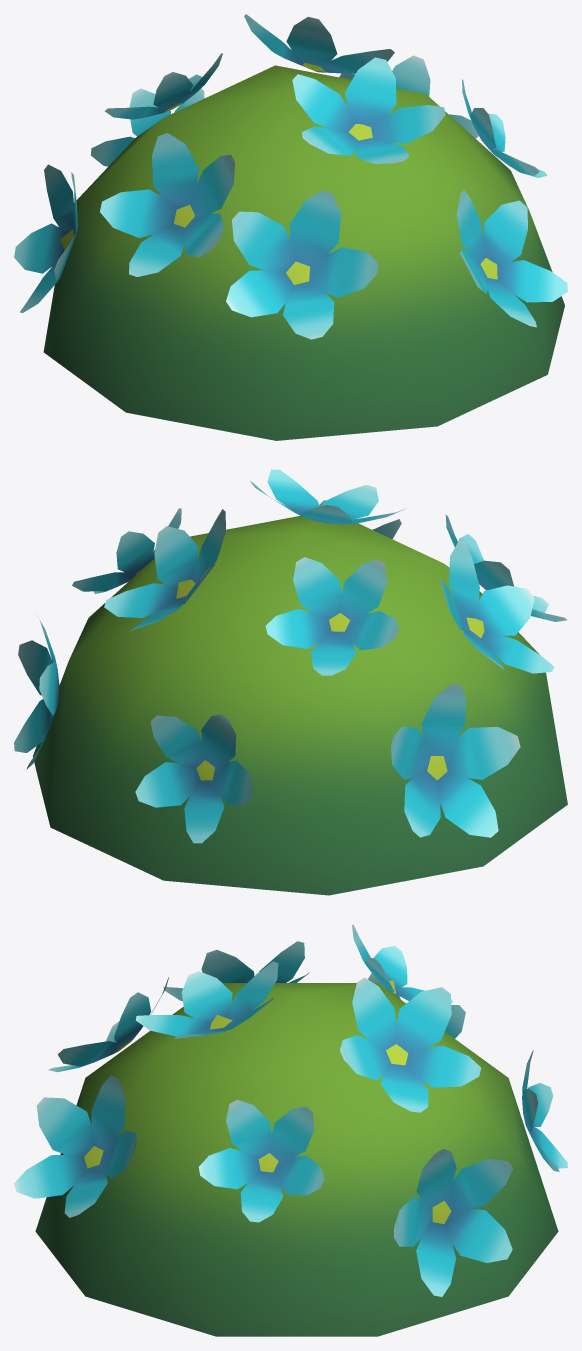
File: bush_flower.glb
3 views of the same model, one above another, from view 1: azimuth 30°, elevation 25°; view 2: azimuth 150°, elevation 25°; view 3: azimuth 270°, elevation 25° (orthographic). The views are drawn at different scales.
Visible parts, largest first — view 1: Flower.017; view 2: Flower.017; view 3: Flower.017.
Part boxes in pixels (x1=…): Flower.017: x1=14, y1=14, x2=567, y2=440; Flower.017: x1=14, y1=469, x2=567, y2=895; Flower.017: x1=14, y1=924, x2=567, y2=1336.
Size of the model in its own units: 2.01 by 1.15 by 2.12.
1 material, 1 textured.
